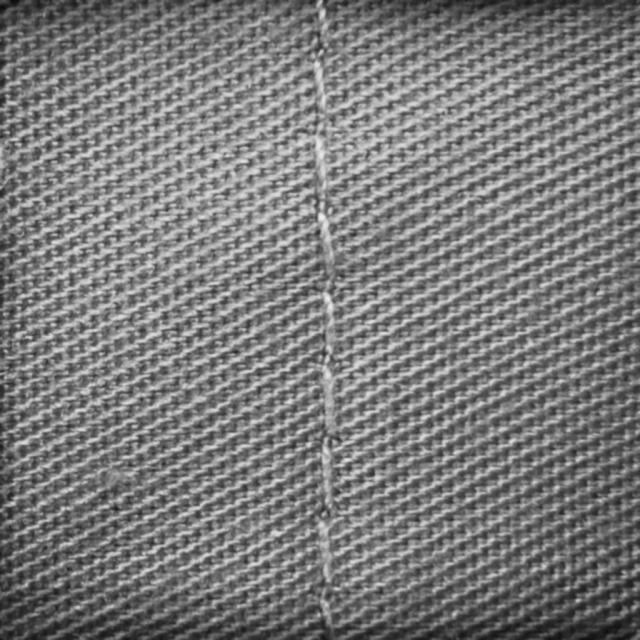stitch: (318, 212, 336, 291), (314, 48, 328, 134), (318, 519, 333, 594), (322, 365, 337, 437), (323, 290, 336, 371), (316, 135, 328, 213), (322, 436, 333, 512), (319, 599, 336, 639), (317, 0, 329, 53)
